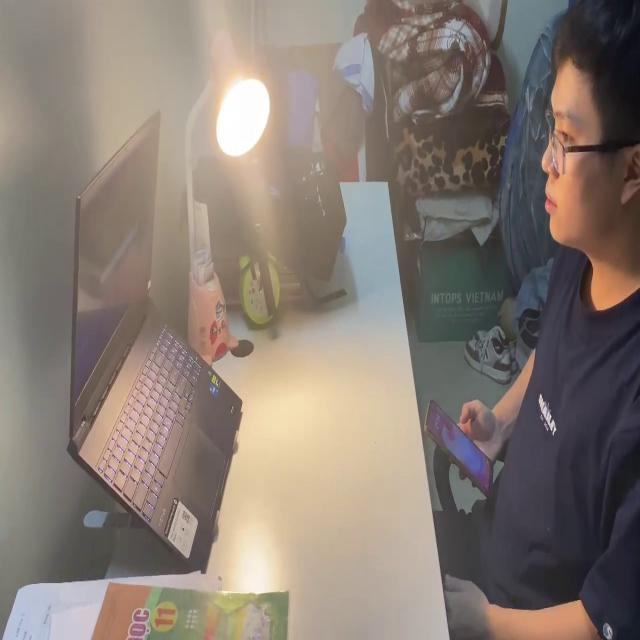laptop: (62, 108, 244, 564), (8, 570, 289, 640)
